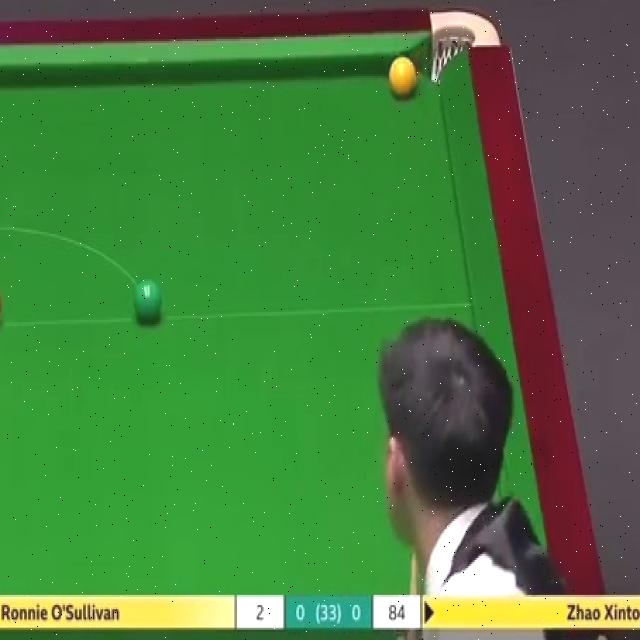green-ball: (133, 277, 163, 324)
yellow-ball: (388, 57, 416, 97)
